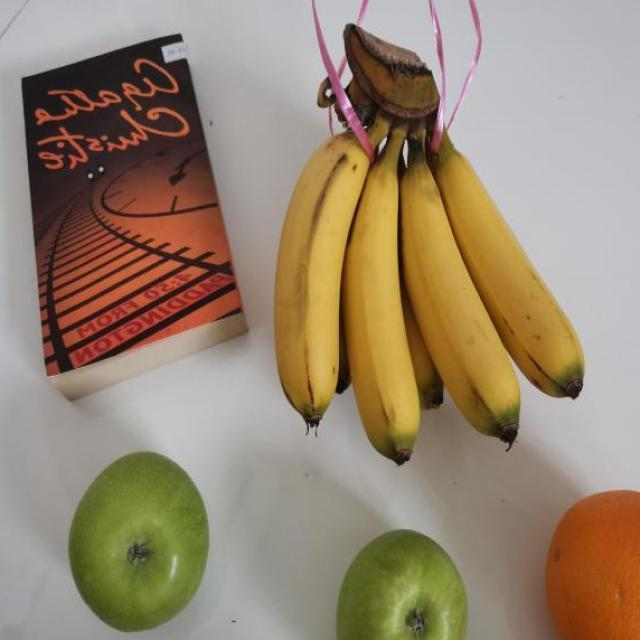Apple: (65, 449, 213, 637), (335, 524, 471, 640)
Banana: (270, 23, 590, 465)
Book: (18, 35, 252, 403)
Orange: (545, 491, 640, 640)
